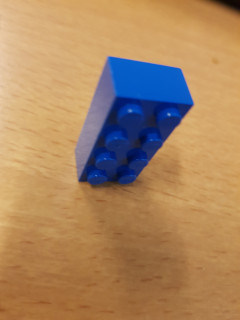2x4 blue: (75, 51, 197, 193)
